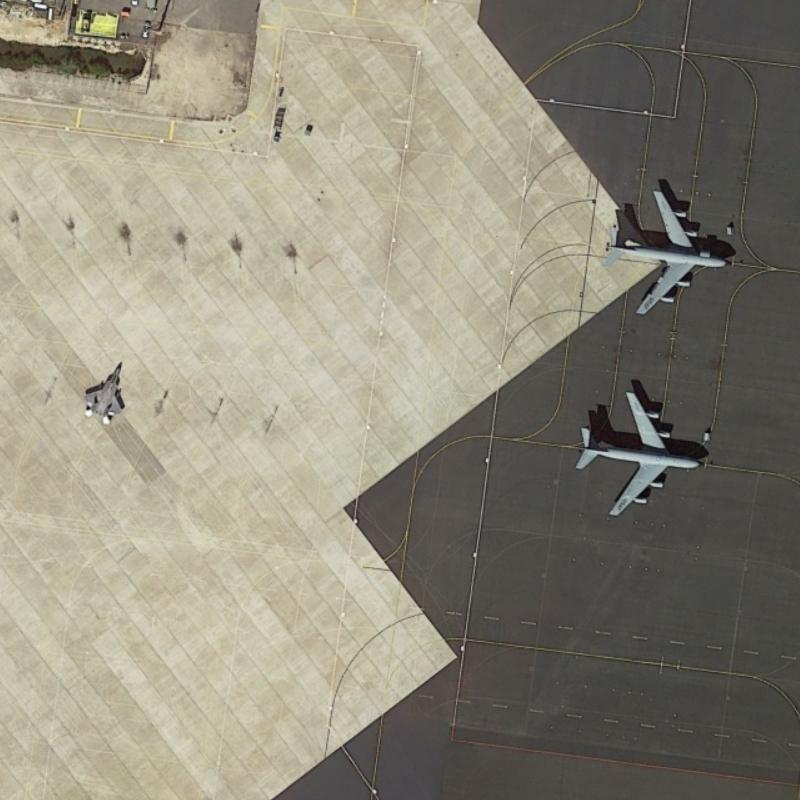A14: (598, 186, 733, 321), (572, 385, 705, 519)
A15: (76, 357, 128, 428)
